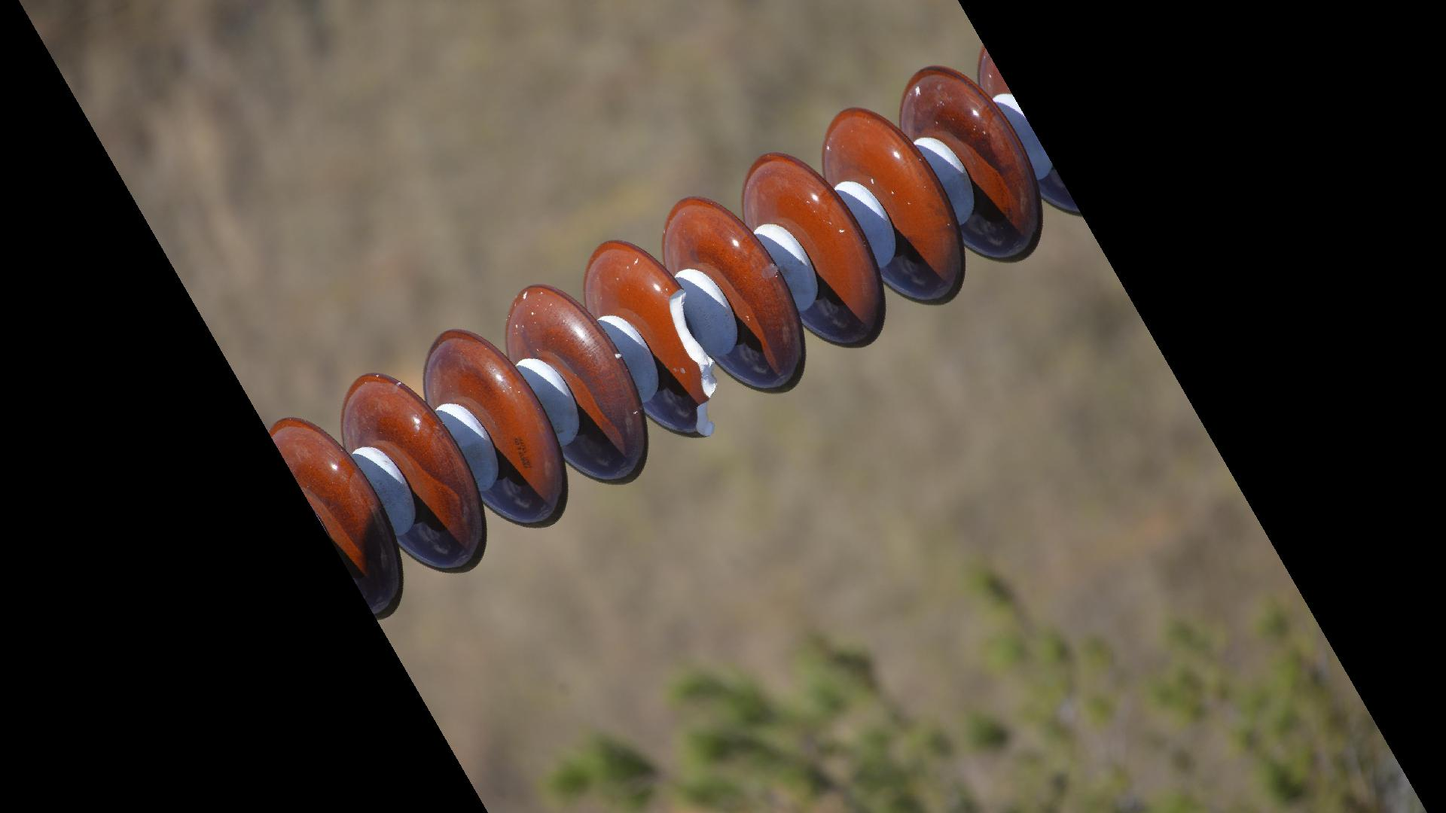insulator: (258, 37, 1090, 634)
insulator_breakage: (658, 276, 731, 446)
